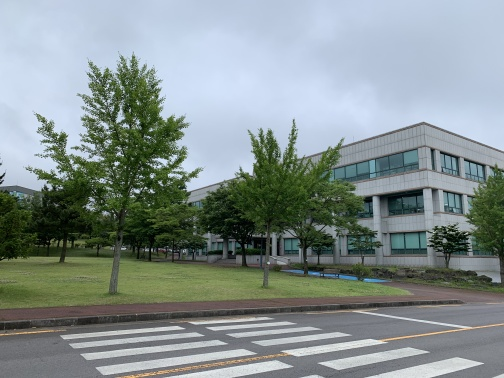Second Library: (318, 121, 504, 283)
